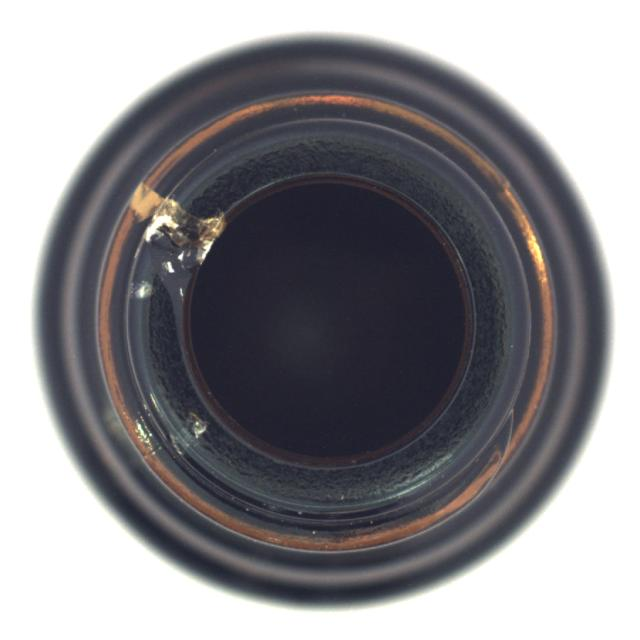bad-broken_small: (31, 29, 617, 612)
